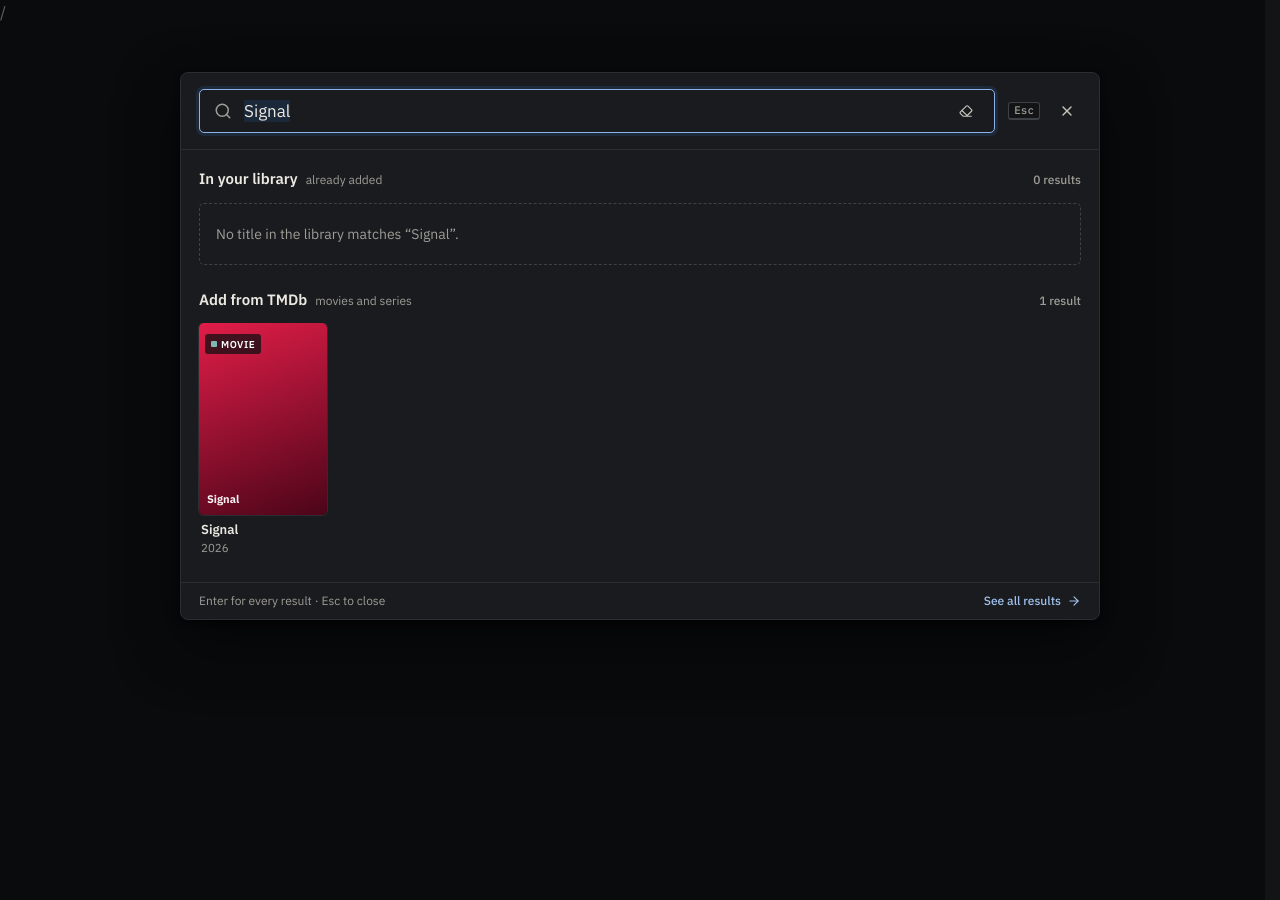
comes back to the same search after Cancel and after a failed add
Click the button with aria-label "Add Signal (2026)".
click(263, 440)  # box [199,323,327,556]
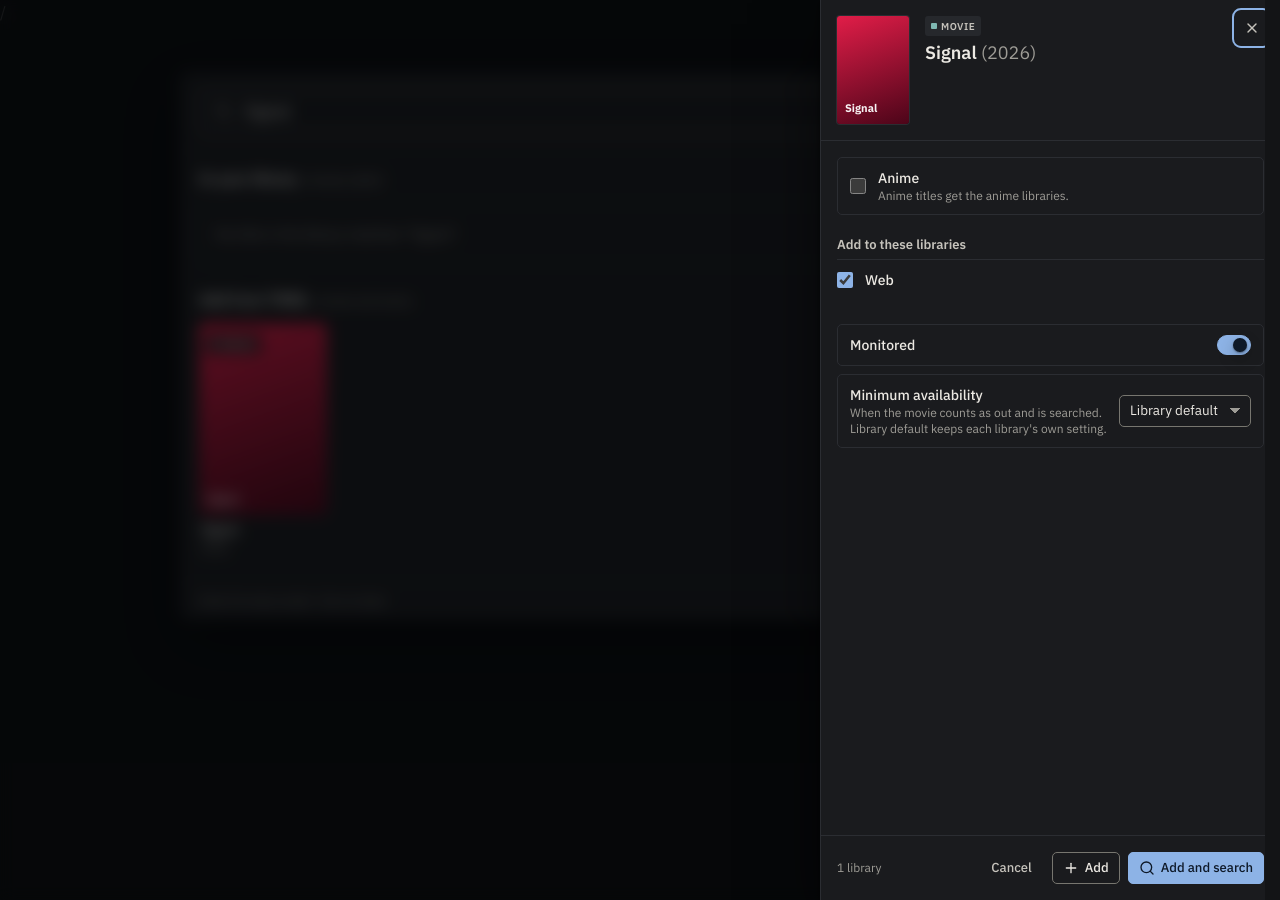
Expected: the button with test id "add-submit" is shown, [1052,852,1120,884]
Click the button "Cancel".
click(1012, 868)  # box [979,852,1044,884]
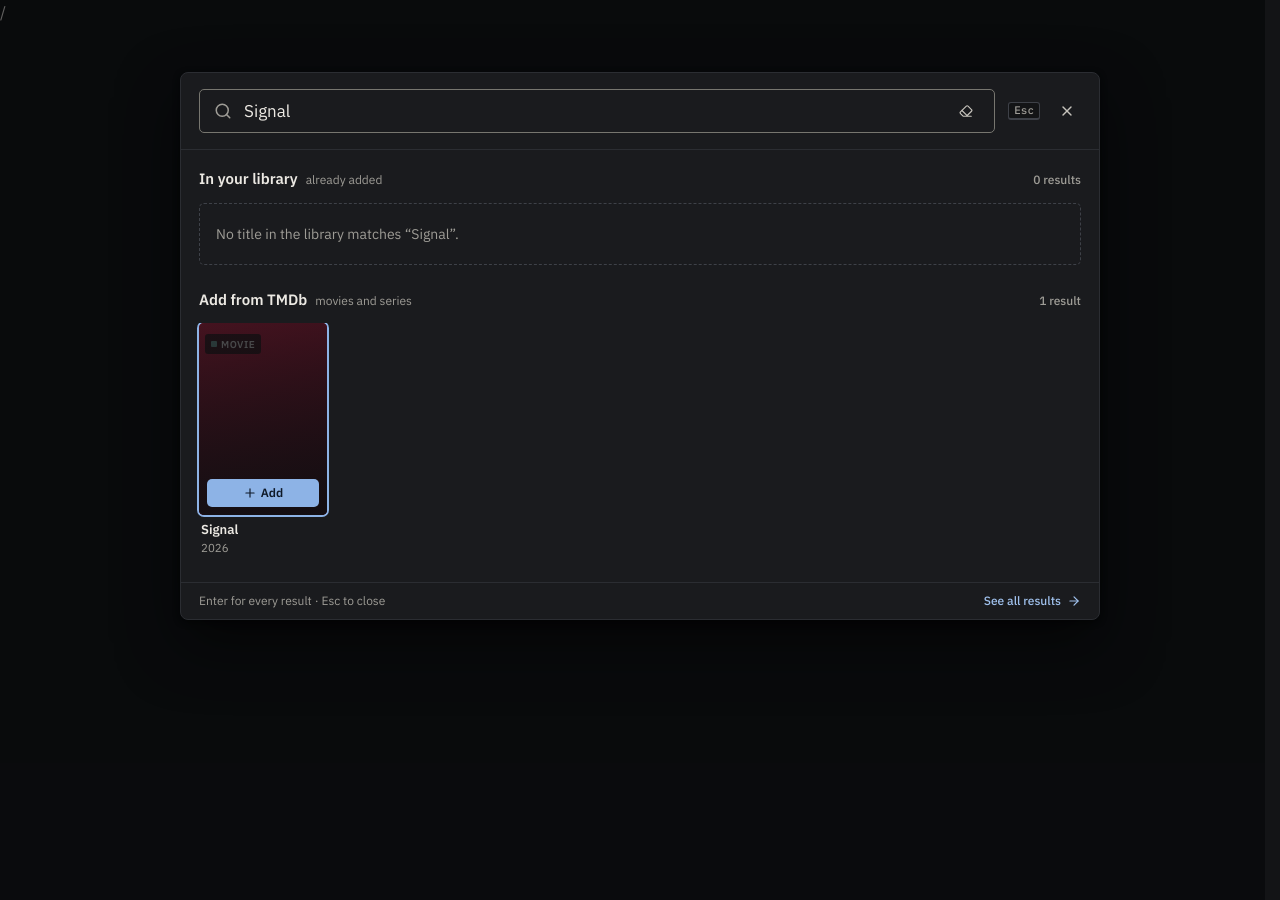
Expected: the search field with test id "search-input" holds "Signal", [244,91,940,131]
Expected: the element with test id "add-sheet" is gone
Click the button with aria-label "Add Signal (2026)".
click(263, 440)  # box [199,323,327,556]
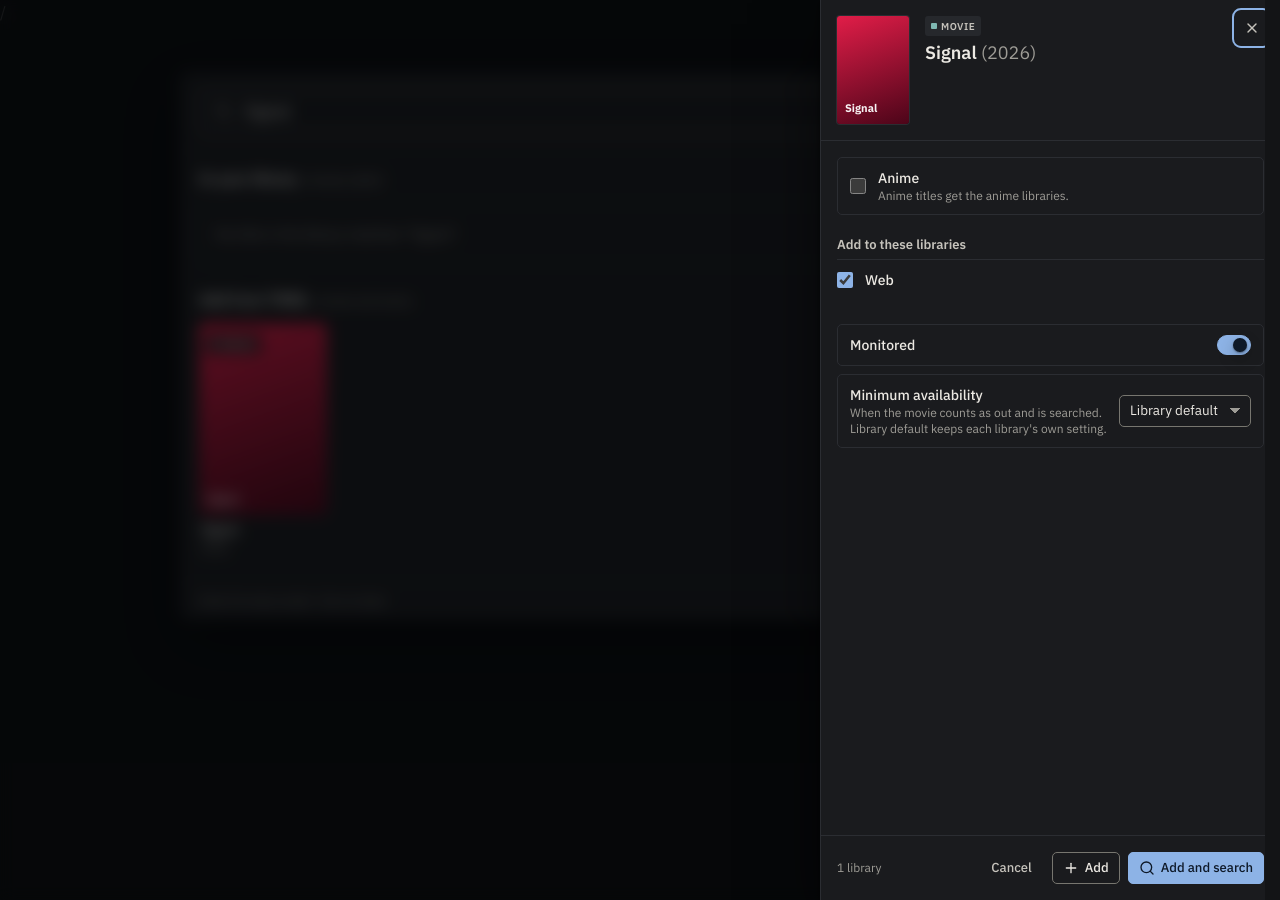
Click the button with test id "add-submit".
click(1086, 868)  # box [1052,852,1120,884]
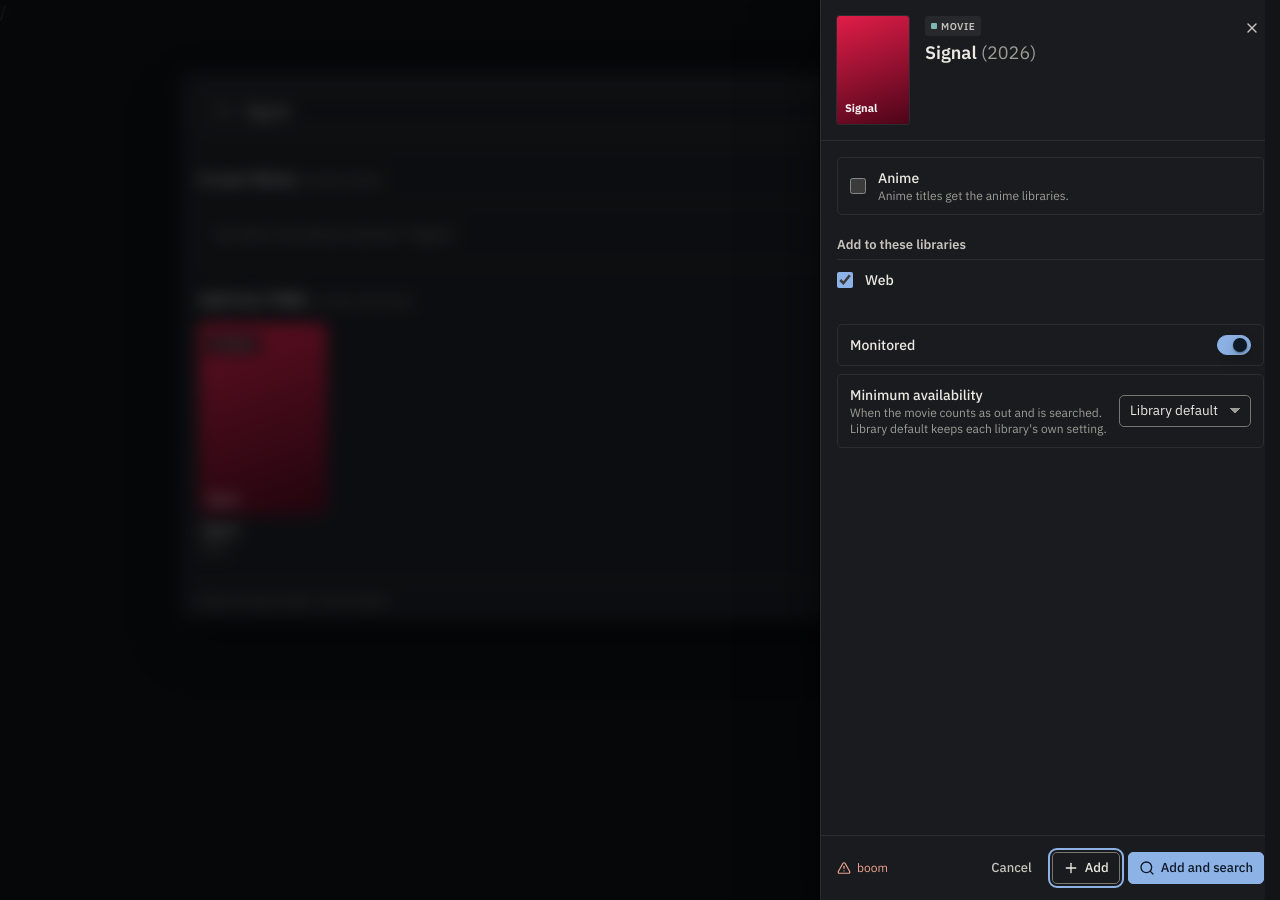
Click the button "Cancel".
click(1012, 868)  # box [979,852,1044,884]
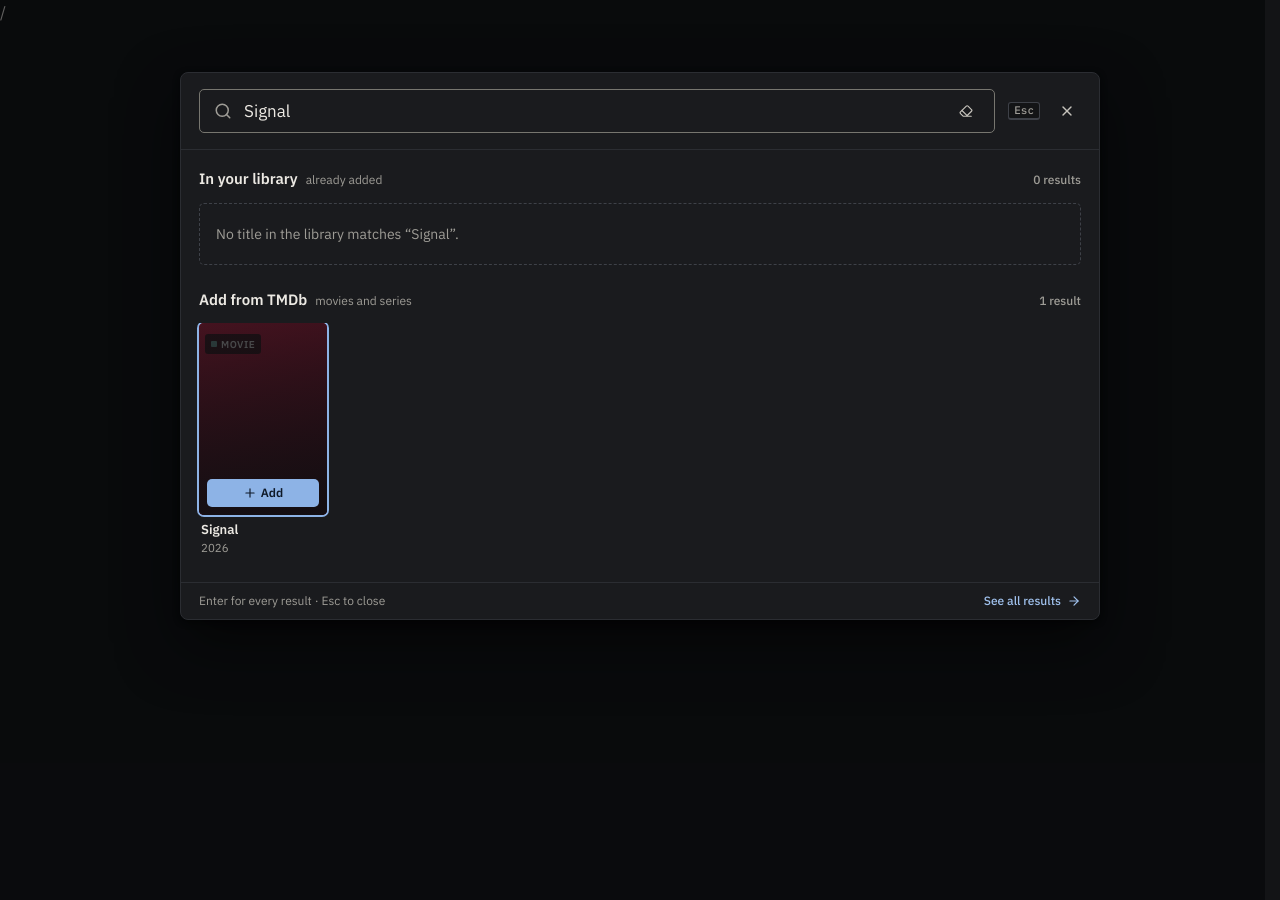
Expected: the search field with test id "search-input" holds "Signal", [244,91,940,131]
Expected: the element with test id "add-sheet" is gone
